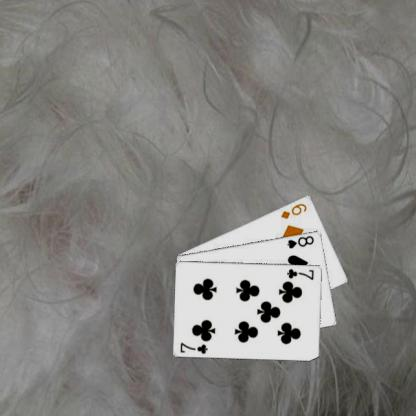6D: (278, 200, 308, 221)
7C: (284, 266, 316, 281), (178, 340, 209, 355)
8S: (284, 233, 316, 250)
